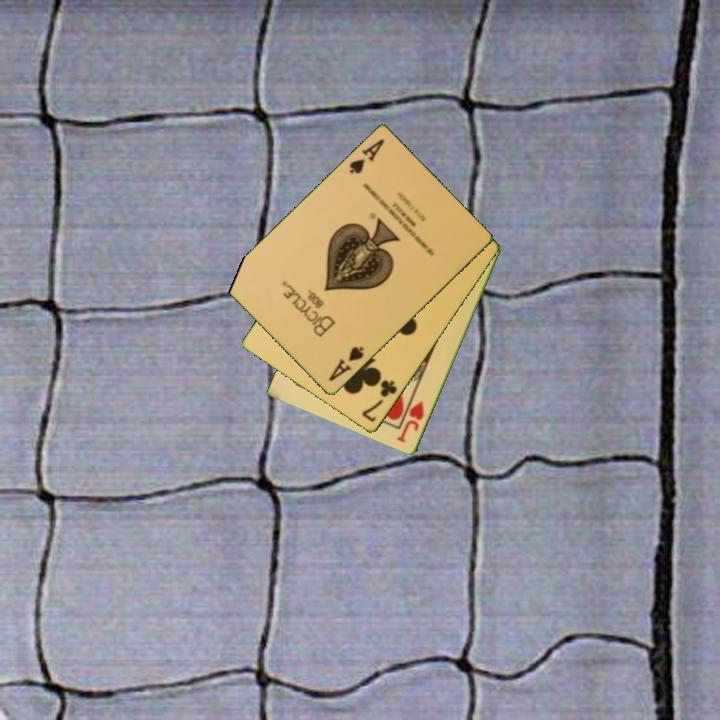7c: (358, 377, 400, 425)
As: (325, 343, 367, 385), (345, 135, 387, 177)
Jh: (394, 398, 427, 446)
